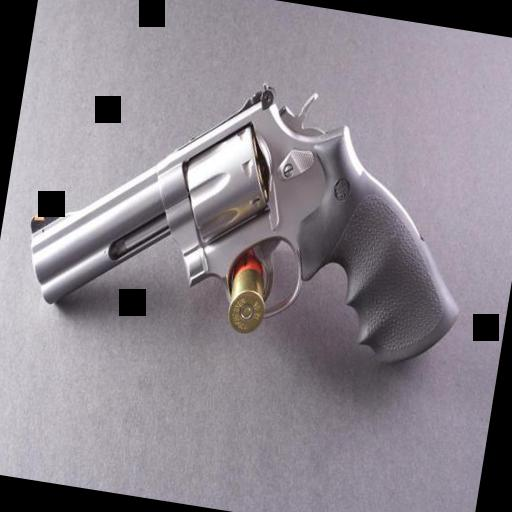Handgun: (8, 44, 490, 416)
